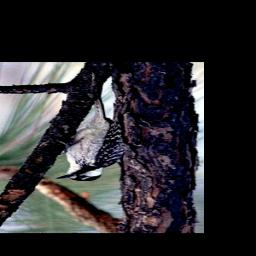Woodpecker: (54, 96, 126, 182)
